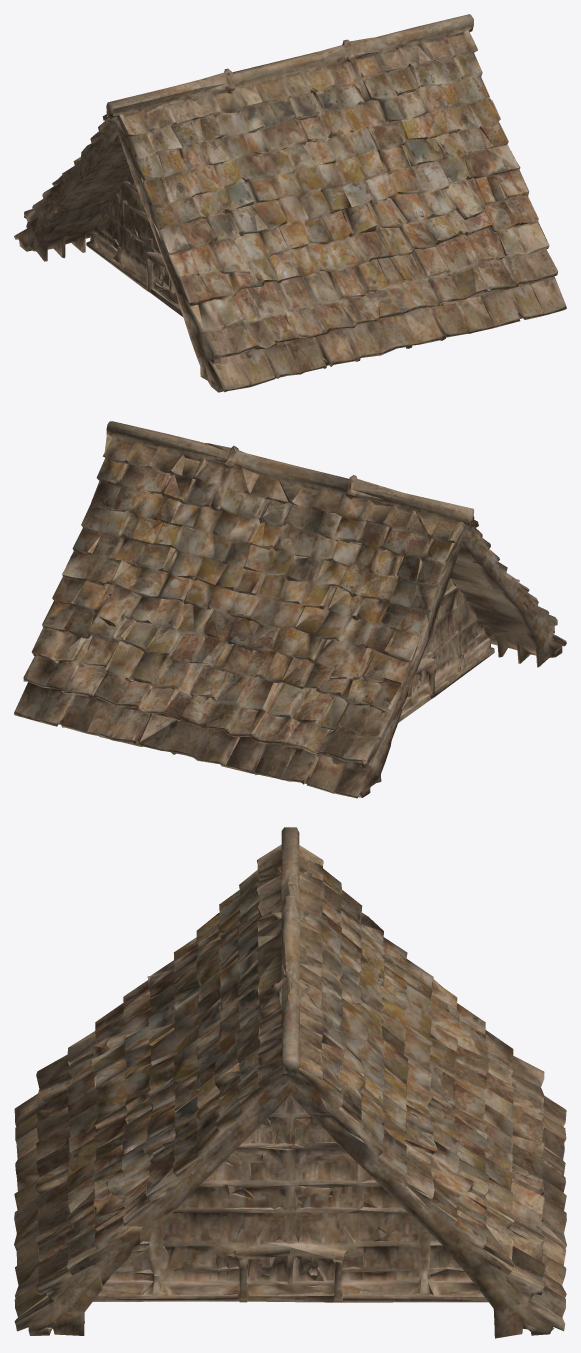
File: kawara.glb
3 views of the same model, one above another, from view 1: azimuth 30°, elevation 25°; view 2: azimuth 150°, elevation 25°; view 3: azimuth 270°, elevation 25° (orthographic). The views are drawn at different scales.
Parts seen in each view (by area): view 1: output_unwrapped; view 2: output_unwrapped; view 3: output_unwrapped.
Part boxes in pixels (box(x1,y1,x2,y2)): output_unwrapped: box(14, 14, 566, 392); output_unwrapped: box(14, 421, 566, 798); output_unwrapped: box(14, 827, 566, 1338).
Bounding box in the file's own units: 2.98 × 1.82 × 3.
1 material, 1 textured.
